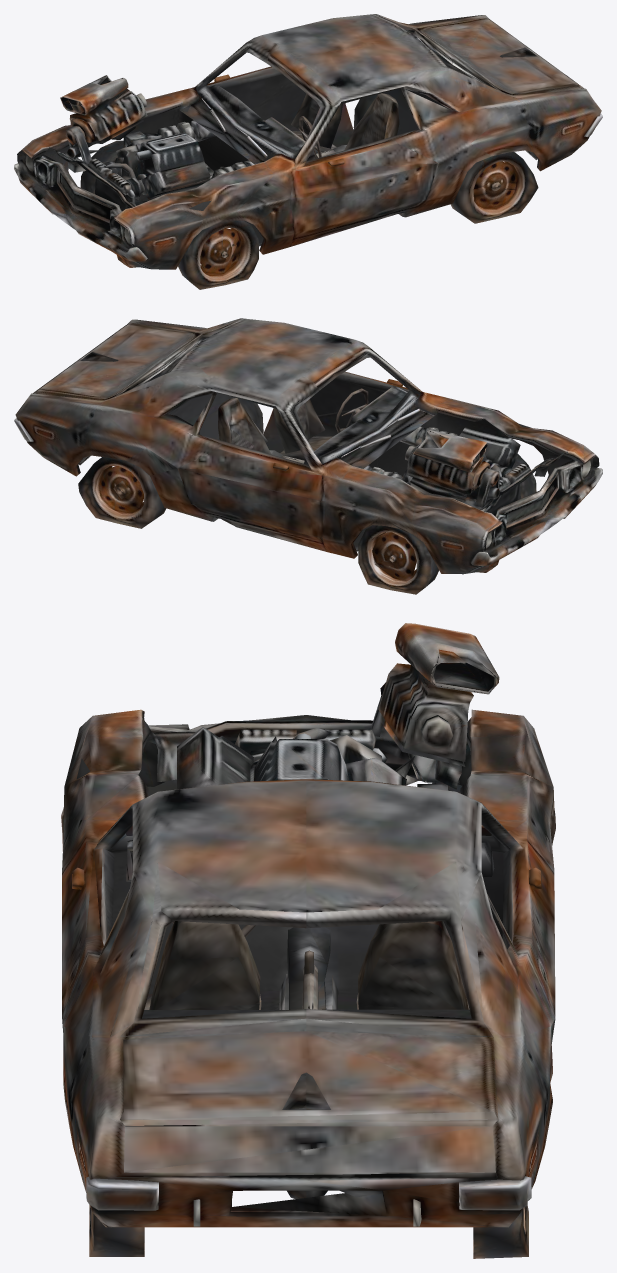
The model's file is wreck_3.glb.
3 views of the same model, one above another, from view 1: azimuth 30°, elevation 25°; view 2: azimuth 150°, elevation 25°; view 3: azimuth 270°, elevation 25° (orthographic). The views are drawn at different scales.
Parts seen in each view (by area): view 1: geometry_0; view 2: geometry_0; view 3: geometry_0.
Boxes of the visible parts, bbox=[...] form: geometry_0: bbox=[14, 14, 602, 289]; geometry_0: bbox=[14, 318, 602, 594]; geometry_0: bbox=[61, 623, 555, 1258].
Bounding box in the file's own units: 0.9502 × 0.2896 × 0.4185.
Materials: 1 (1 with a texture image).
